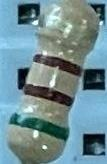Brown: (32, 50, 83, 77), (23, 83, 75, 108)
Green: (10, 112, 69, 142)
Side-Silver: (39, 12, 99, 44)
